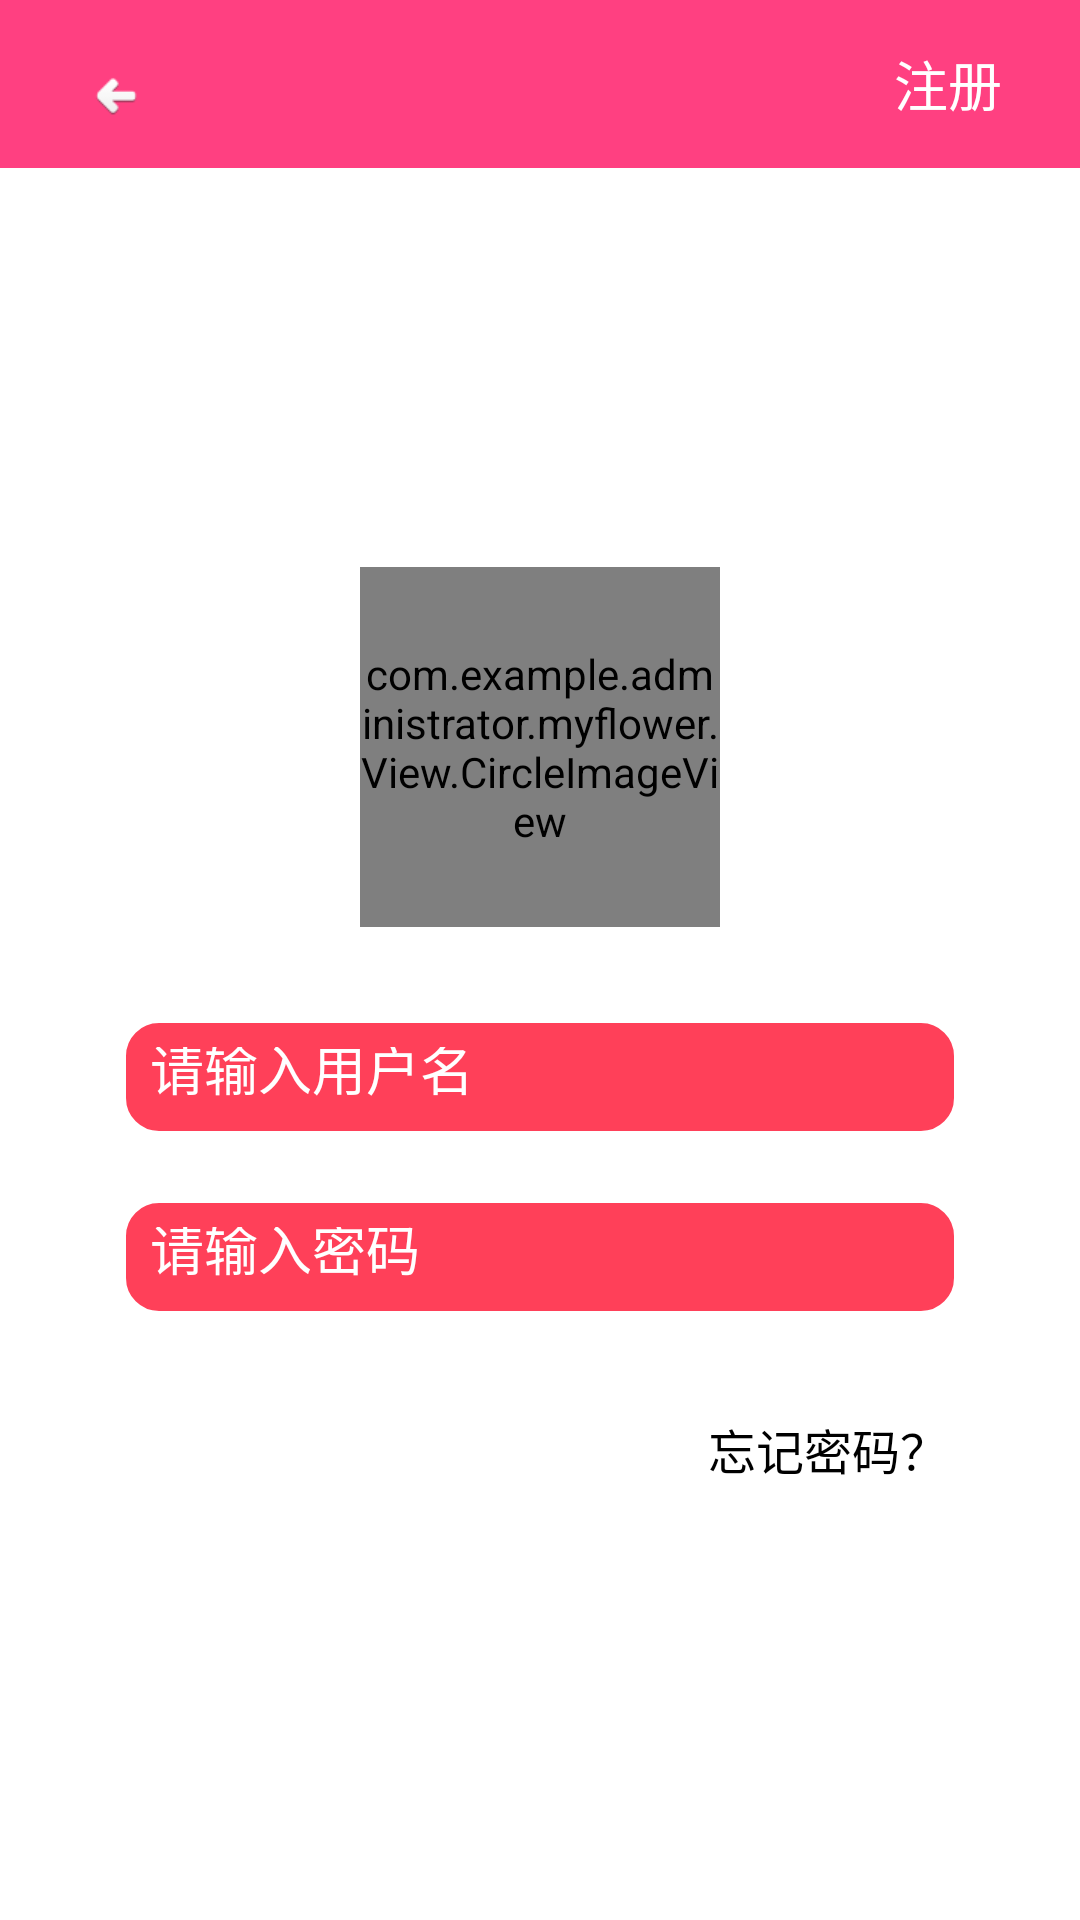

Icons on this 1080px×1920px Android screen, each with its box as [x1, y1, x2, y2]:
detail back: [96, 78, 137, 115]
